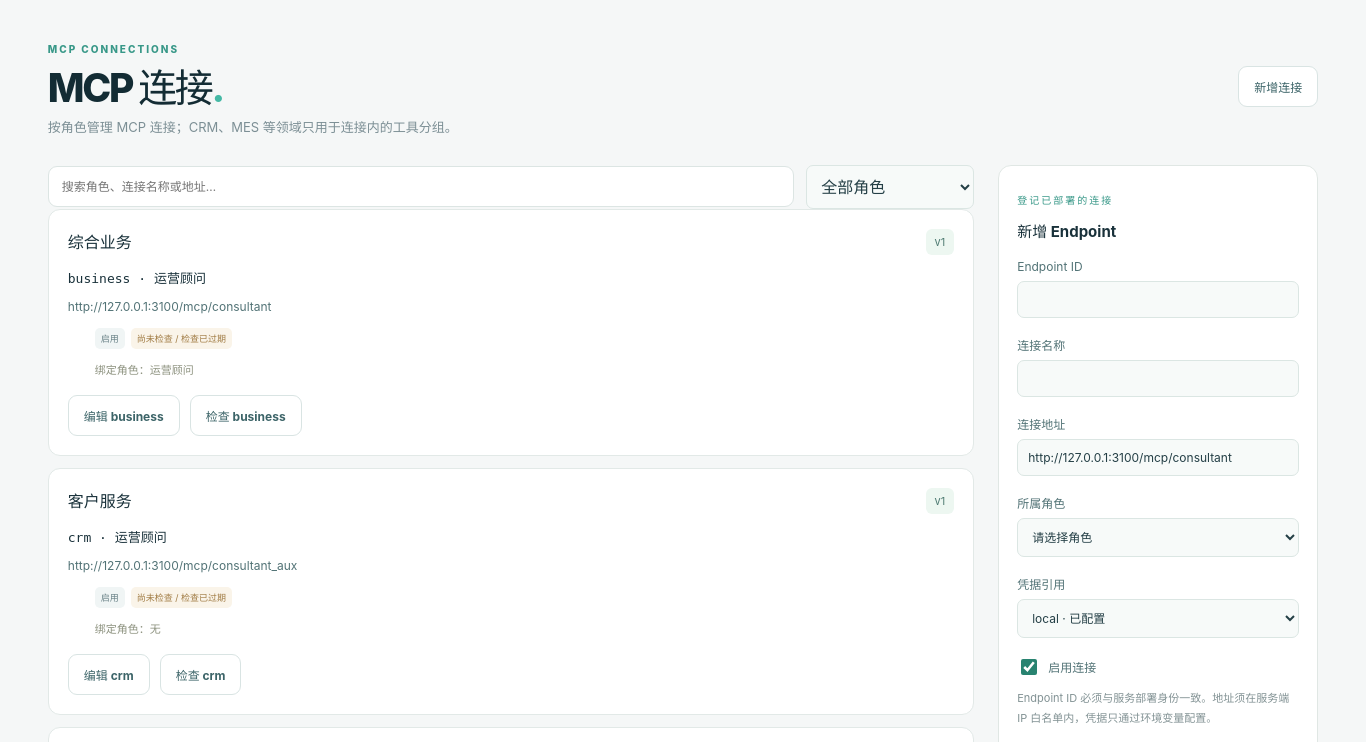
Test: Endpoint-aware capabilities › filters the Endpoint directory by role, not Tool domain
The image size is (1366, 742).
Select "生产角色" in the dropdown named "连接所属角色筛选" at (890, 187), box [806, 165, 974, 209]
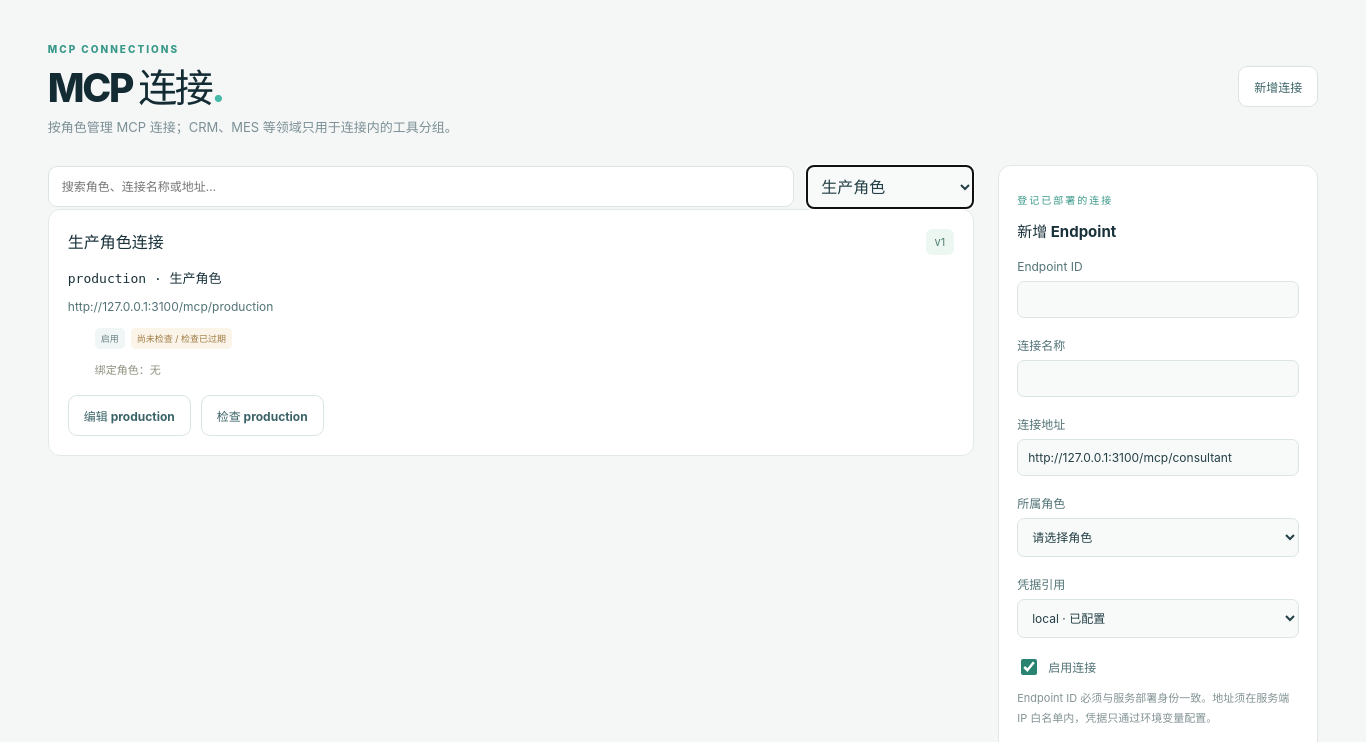
Expected: the button "编辑 production" is shown, [68, 395, 191, 436]
Expected: the button "编辑 business" is gone
